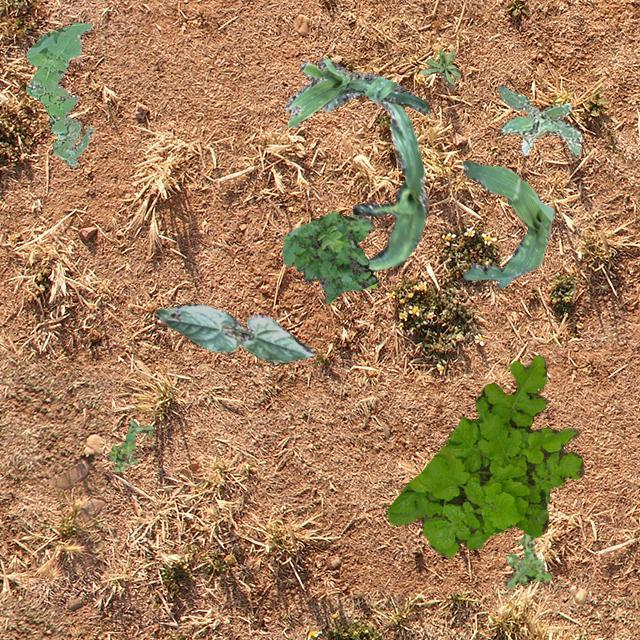crop: (322, 90, 427, 270), (462, 160, 554, 288), (284, 56, 428, 126), (154, 302, 314, 362)
weed: (387, 354, 582, 556), (24, 21, 92, 166), (280, 212, 376, 302), (496, 84, 580, 154), (502, 532, 550, 588), (106, 420, 152, 470), (420, 48, 460, 88)
